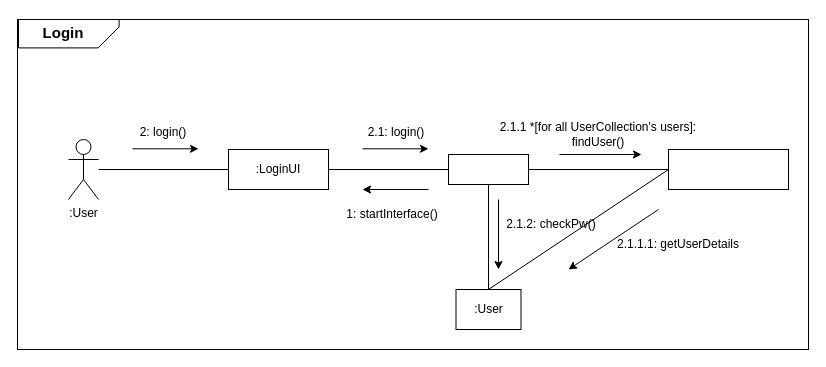
Some shapes in this 826 by 367 pixel diagram are drawn without their labels. The box of each missing label's shape, as (x1, y1, x2, y2) in pixels:
:Login: (448, 154, 528, 184)
:UserCollection: (668, 148, 788, 190)
